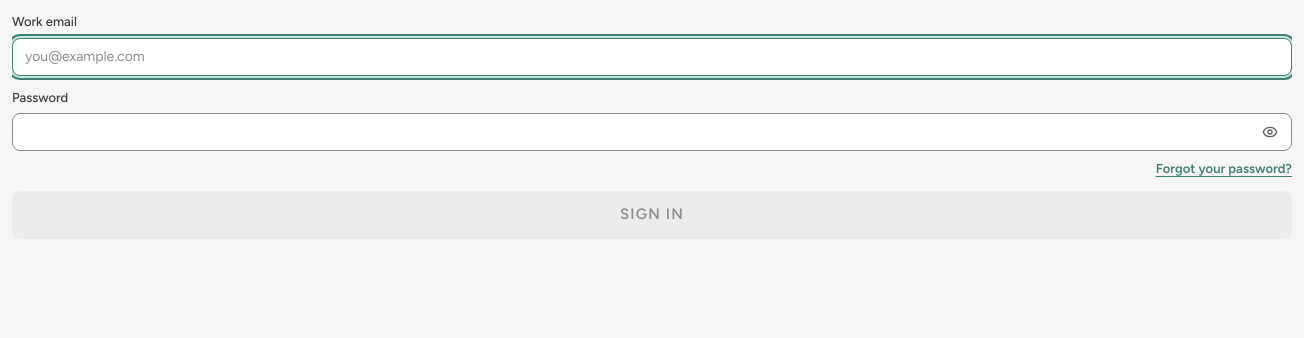
Test: failed credentials stay on the form › shows the generic message and does NOT navigate
The image size is (1304, 338).
In the field labelled "Work email": (652, 56) [12,38,1292,76], type "marlowe.example@glowbrands.test"
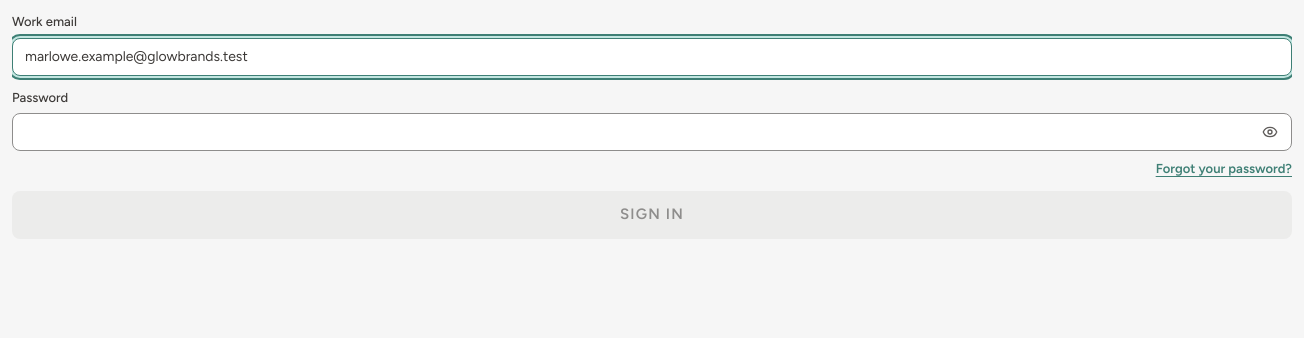
In the password field labelled "Password": (652, 132) [12,113,1292,151], type "a-correct-horse-battery"
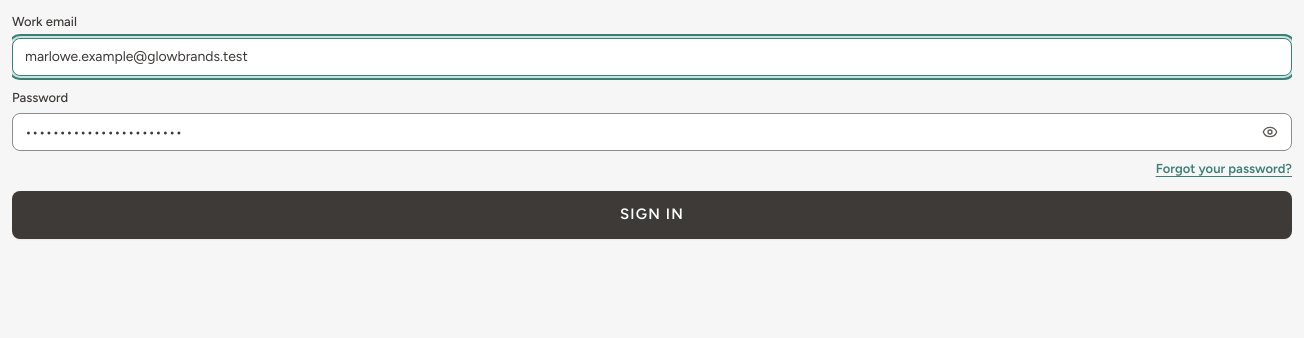
Click the button "Sign in": (652, 214) [12,190,1292,238]
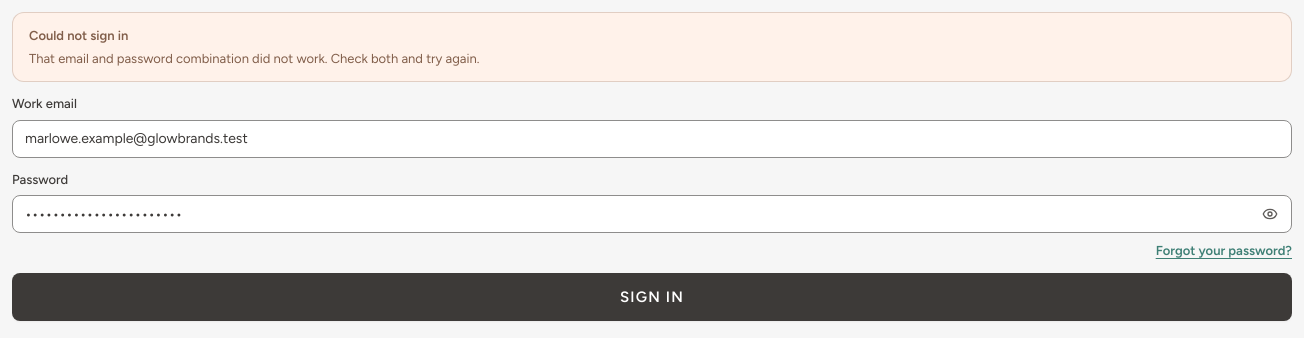
Now the text "Could not sign in" is shown, box [29,28,128,43]
